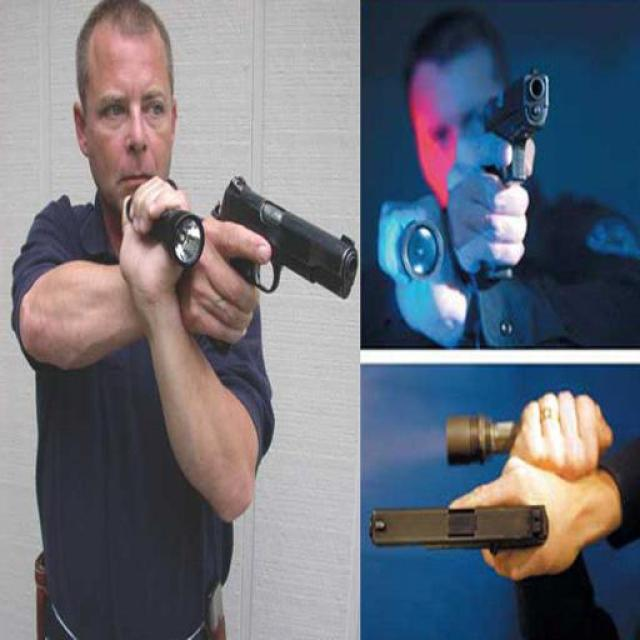pistol: (196, 173, 354, 354), (472, 59, 552, 285), (366, 496, 547, 557)
